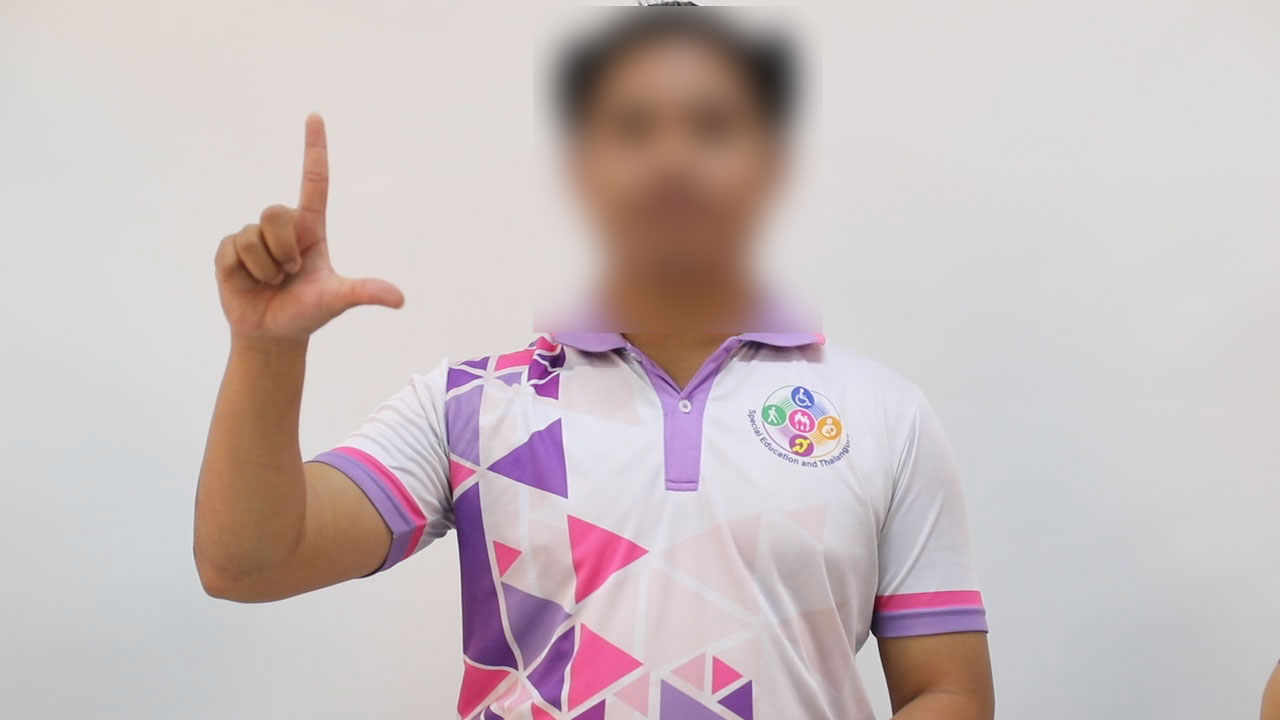lor: (198, 99, 416, 367)
